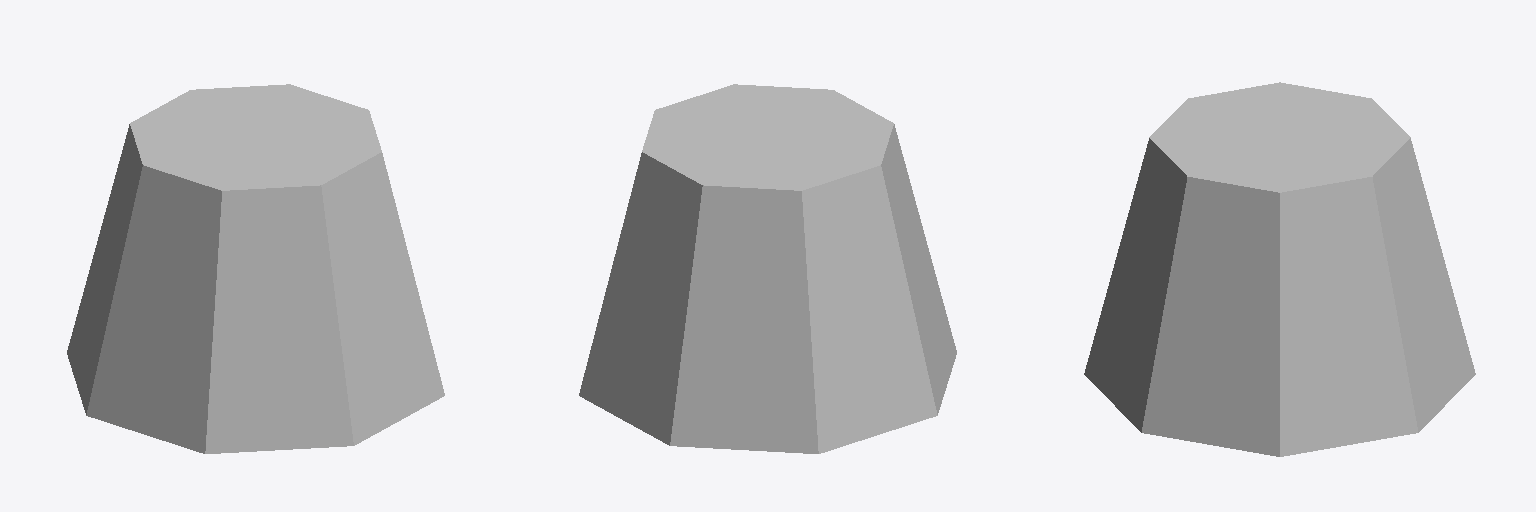
Rendered from fuselage_2m3m_simple.obj.
3 views of the same model, side by side, from view 1: azimuth 30°, elevation 25°; view 2: azimuth 150°, elevation 25°; view 3: azimuth 270°, elevation 25° (orthographic).
Visible parts, largest first — view 1: Cylinder; view 2: Cylinder; view 3: Cylinder.
Boxes of the visible parts, box(x1,y1,x2,y2) form: Cylinder: box(67, 84, 444, 453); Cylinder: box(579, 84, 956, 453); Cylinder: box(1084, 82, 1475, 456).
Size of the model in its own units: 3 by 2 by 3.